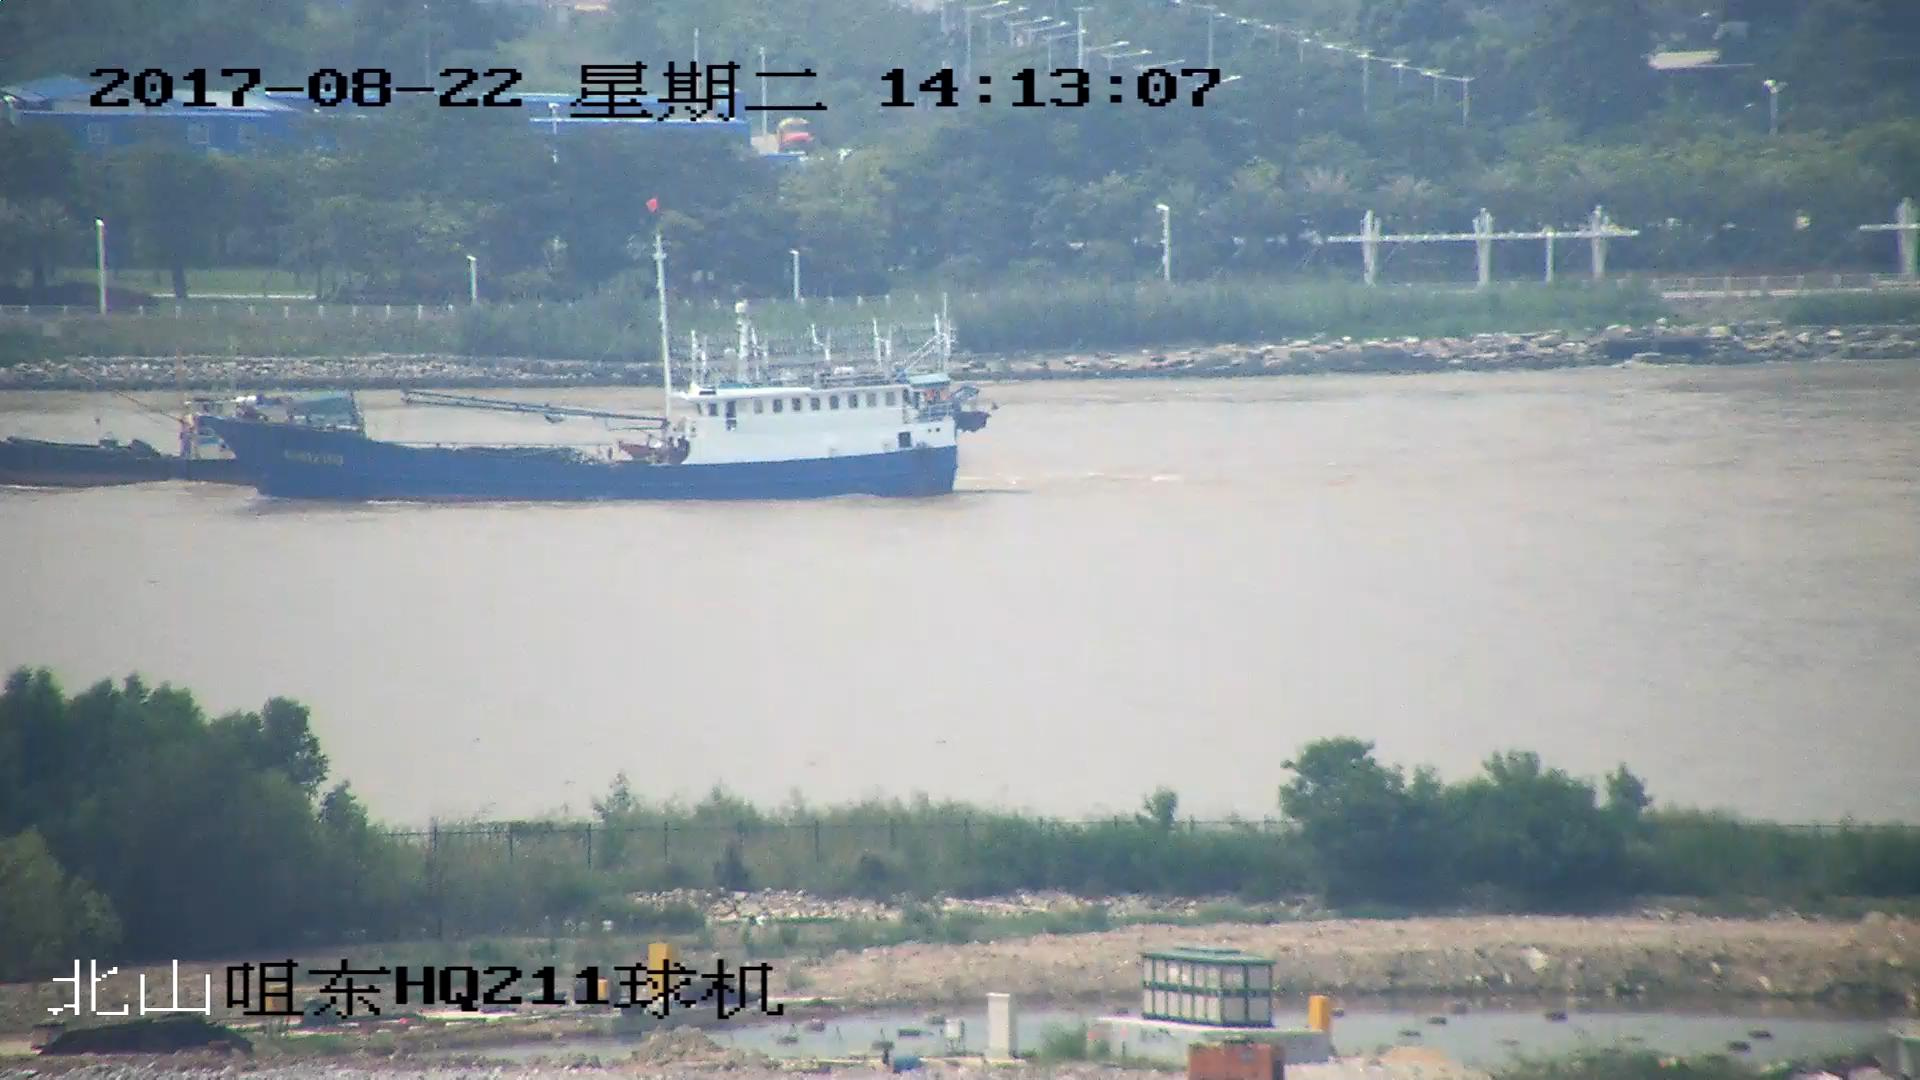fishing boat: (201, 197, 987, 507), (1, 390, 376, 488)
